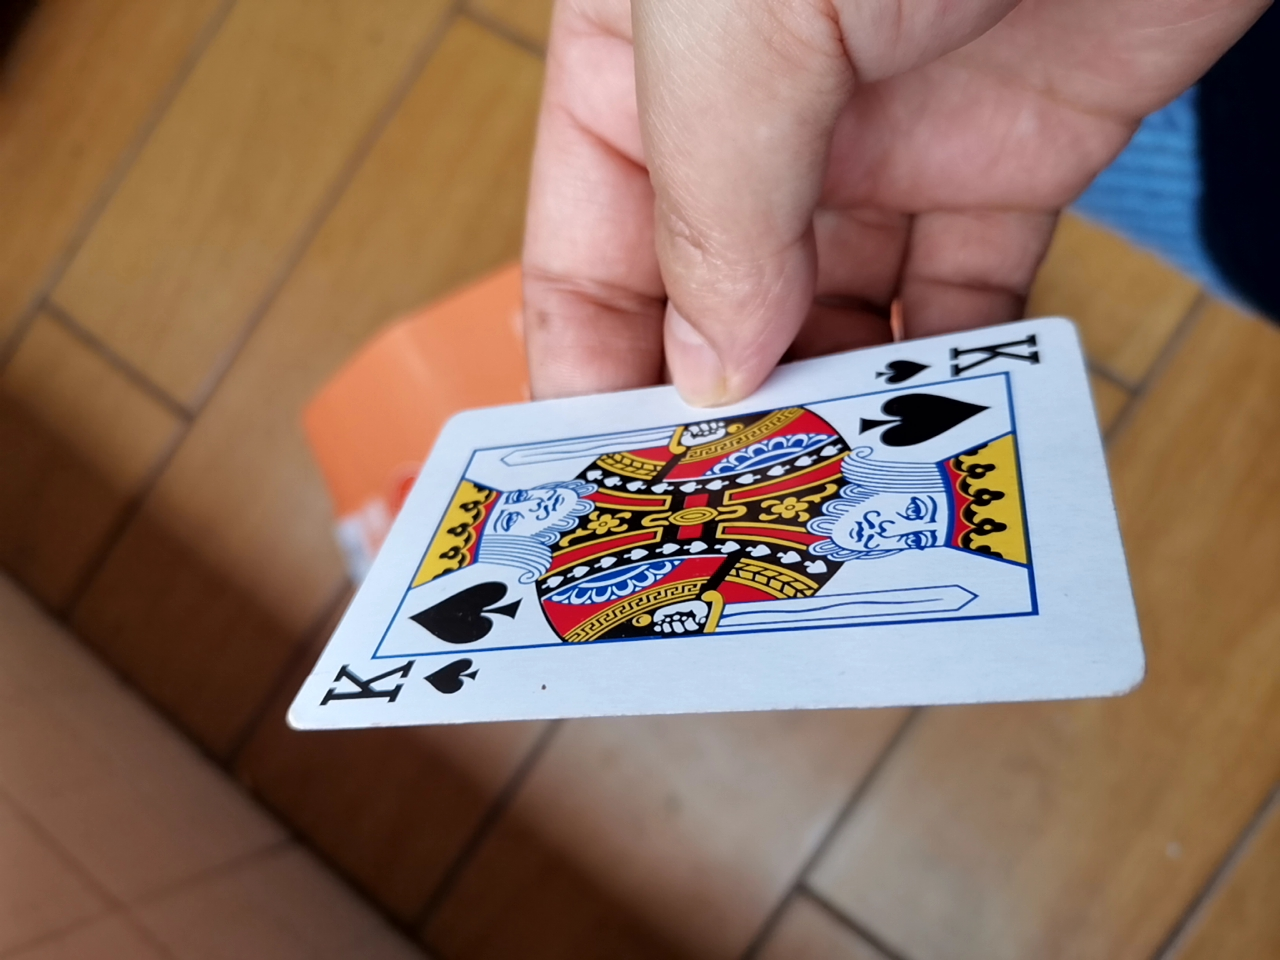ht k: (258, 325, 1149, 743)
